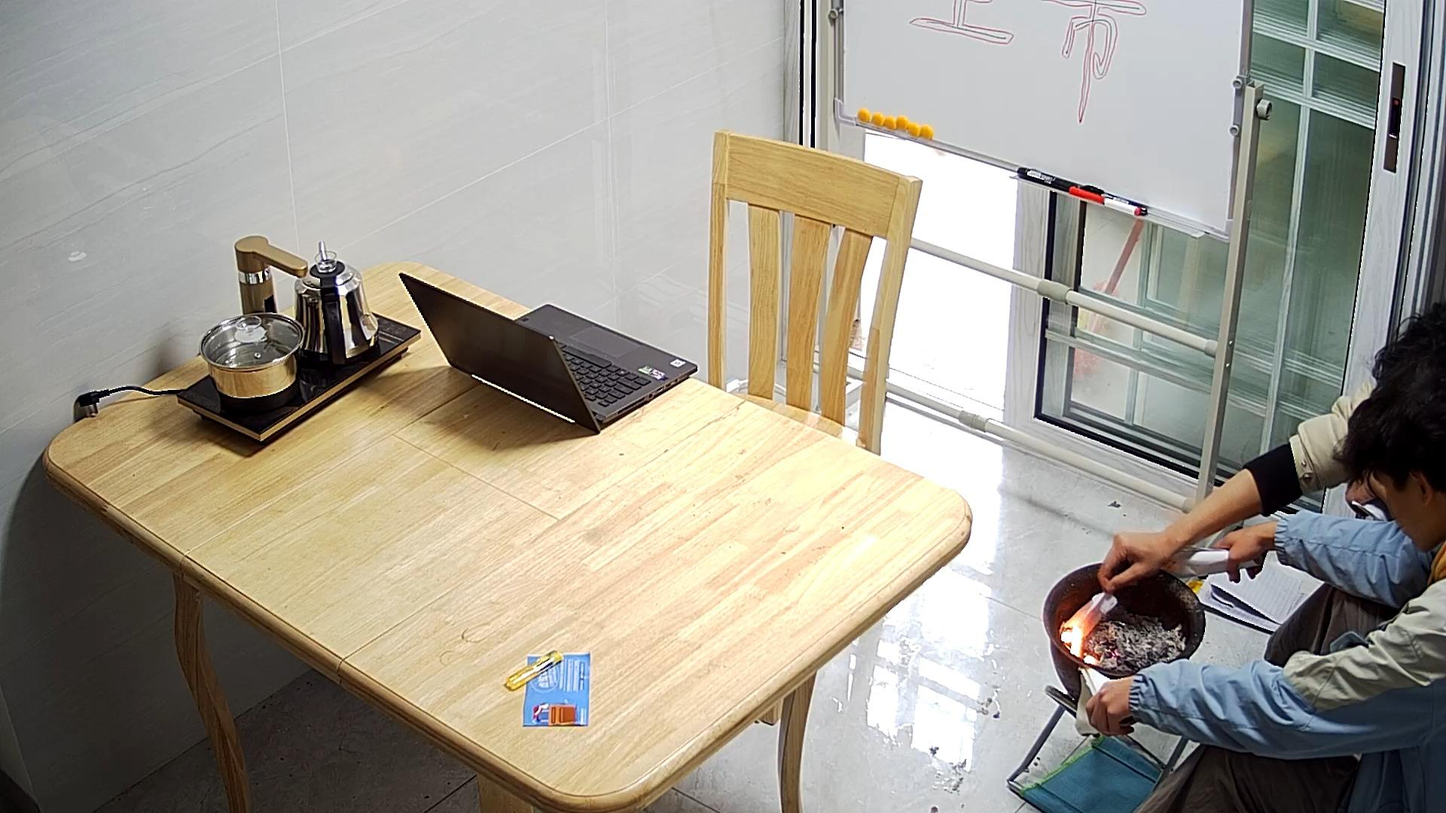fire: (1058, 601, 1092, 658)
